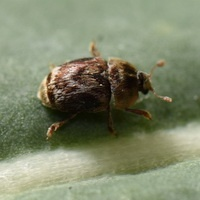insect: (37, 41, 171, 137)
